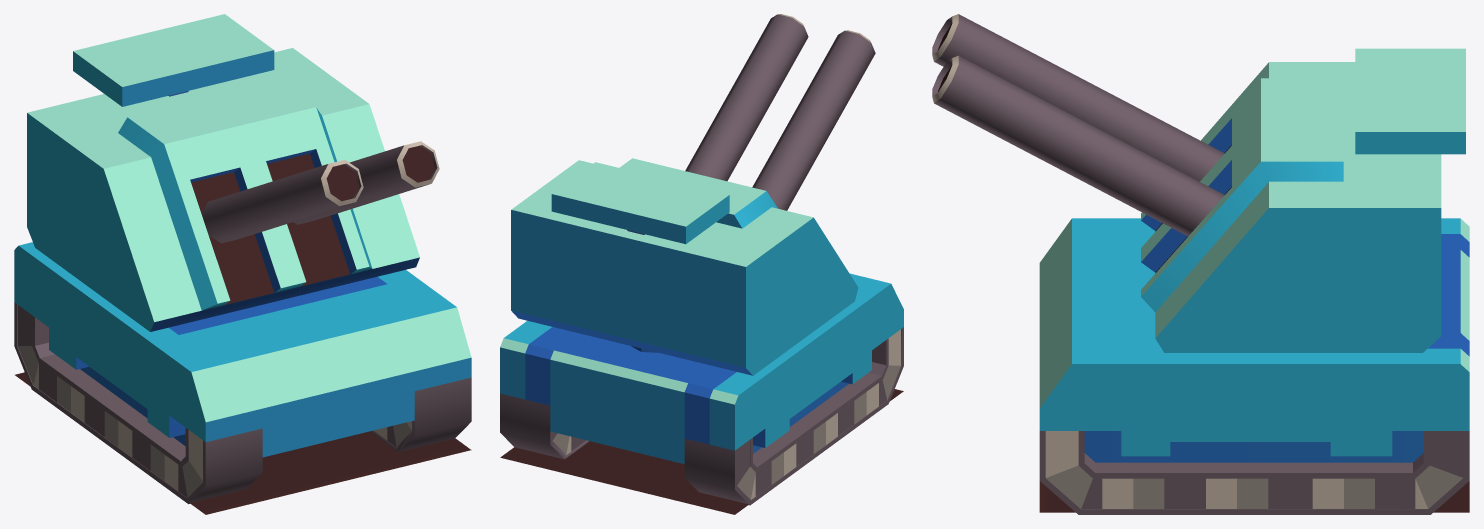
Rendered from AntiAirMesh.AzureAsteroid.glb.
3 renders of one model, left to right at view 1: azimuth 30°, elevation 25°; view 2: azimuth 150°, elevation 25°; view 3: azimuth 270°, elevation 25°, orthographic. The views are drawn at different scales.
Parts seen in each view (by area): view 1: AntiAirMesh.AzureAsteroid; view 2: AntiAirMesh.AzureAsteroid; view 3: AntiAirMesh.AzureAsteroid.
Part boxes in pixels (x1,y1,x2,y2): AntiAirMesh.AzureAsteroid: [14, 14, 471, 514]; AntiAirMesh.AzureAsteroid: [500, 14, 903, 514]; AntiAirMesh.AzureAsteroid: [932, 14, 1469, 514].
Bounding box in the file's own units: 1.4 × 1.8 × 2.18.
1 material, 1 textured.
